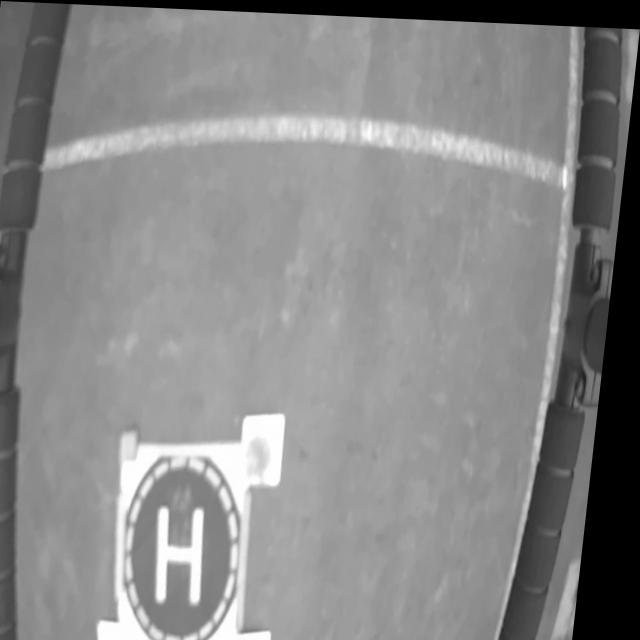Helipad: (166, 501, 215, 604)
